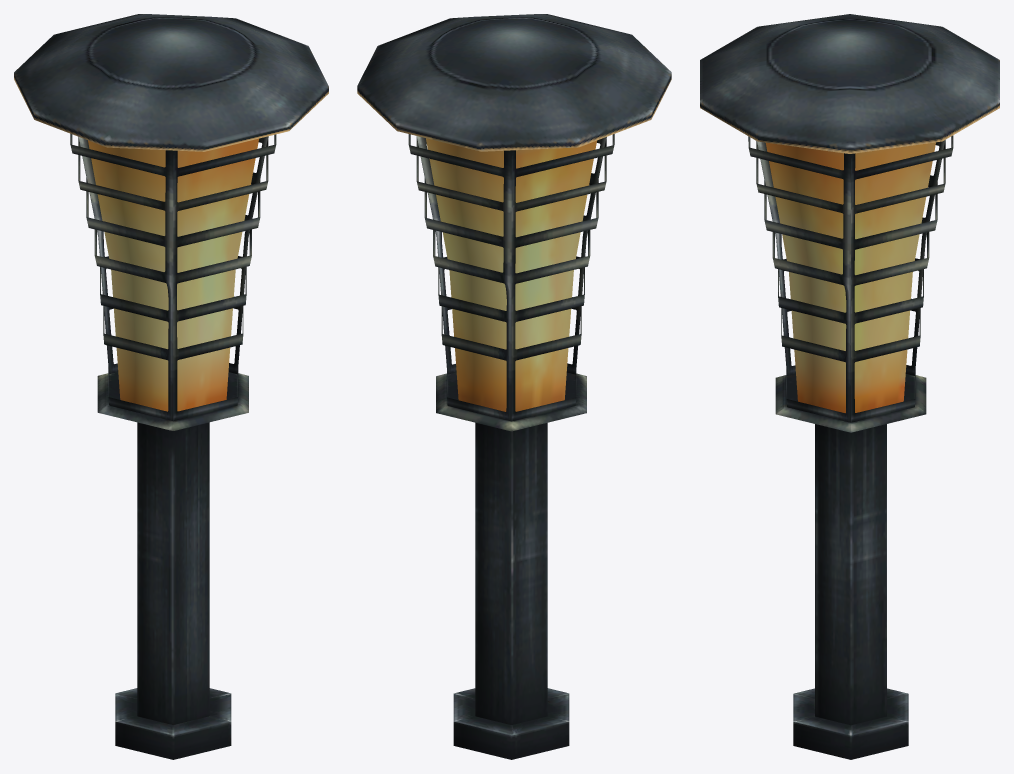
File: furni_0200918.FBX
3 views of the same model, side by side, from view 1: azimuth 30°, elevation 25°; view 2: azimuth 150°, elevation 25°; view 3: azimuth 270°, elevation 25° (orthographic).
Parts seen in each view (by area): view 1: furni_0200918; view 2: furni_0200918; view 3: furni_0200918.
Part boxes in pixels (x1,y1,x2,y2): furni_0200918: (14,14,328,759); furni_0200918: (357,14,671,759); furni_0200918: (700,14,999,759).
Size of the model in its own units: 21.07 by 51.22 by 20.04.
2 materials, 2 textured.
